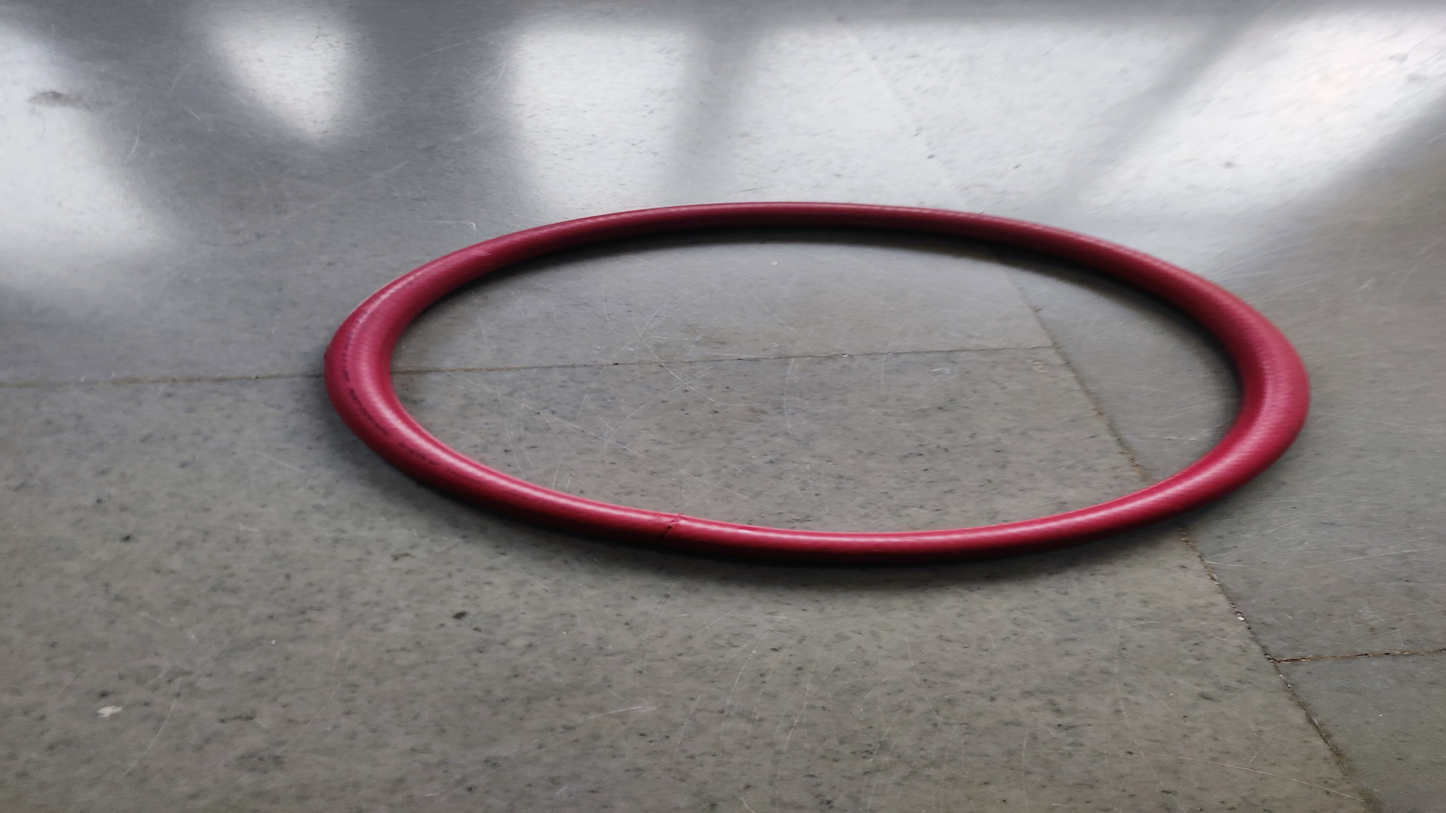Red ring: (322, 201, 1313, 565)
